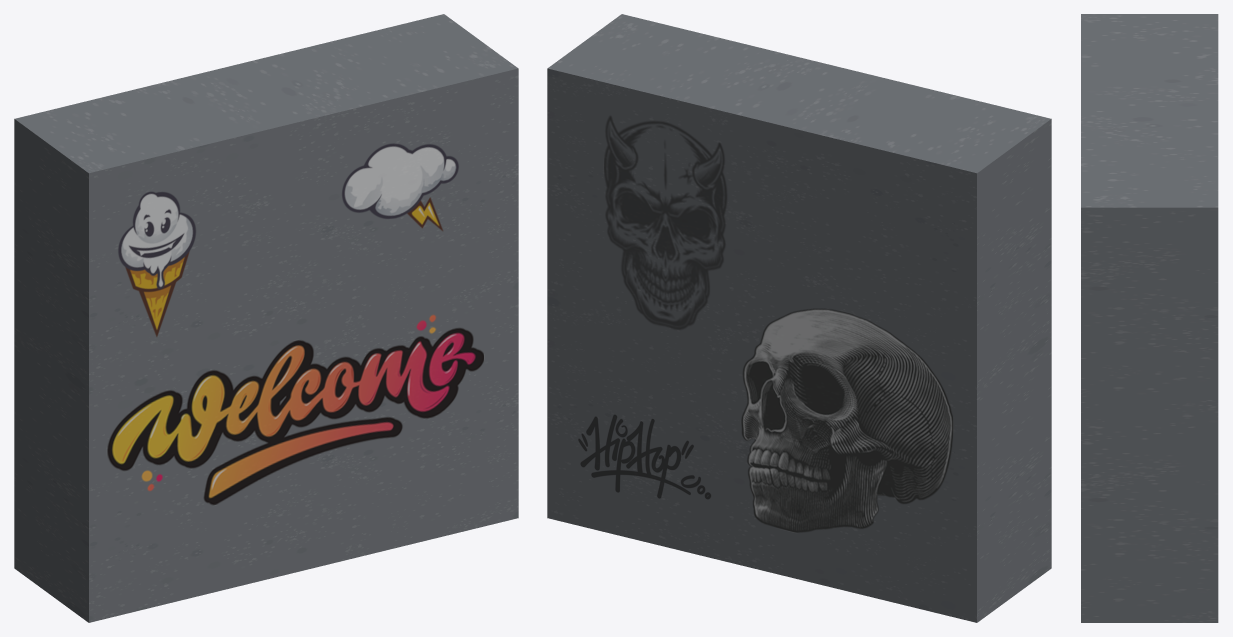
Rendered from Grafitti_Wall_Short_B.glb.
The picture shows the model from 3 angles, left to right: view 1: azimuth 30°, elevation 25°; view 2: azimuth 150°, elevation 25°; view 3: azimuth 270°, elevation 25°; orthographic projection. The views are drawn at different scales.
Visible parts, largest first — view 1: Graffiti_Wall_B; view 2: Graffiti_Wall_B; view 3: Graffiti_Wall_B.
Part boxes in pixels (box(x1,y1,x2,y2)): Graffiti_Wall_B: box(14, 14, 518, 622); Graffiti_Wall_B: box(547, 14, 1051, 622); Graffiti_Wall_B: box(1081, 14, 1218, 622).
Size of what is drawn, in the model's own units: 2 by 2 by 0.6035.
2 materials, 2 textured.
